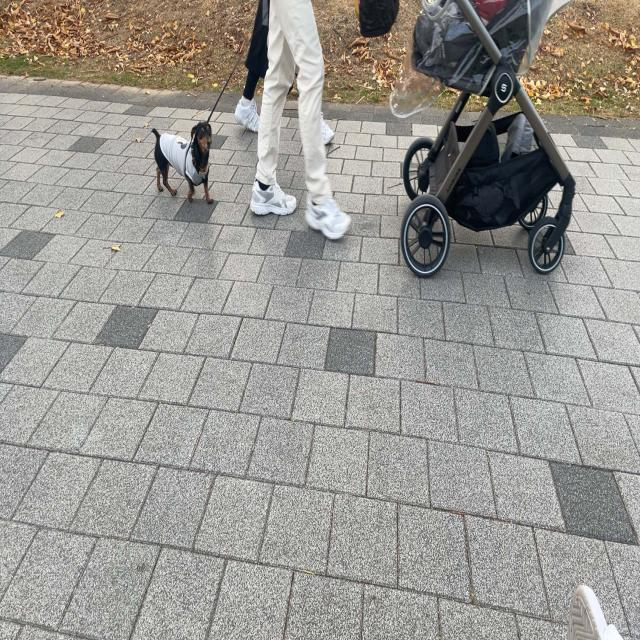Leashed_Dog: (150, 0, 290, 204)
